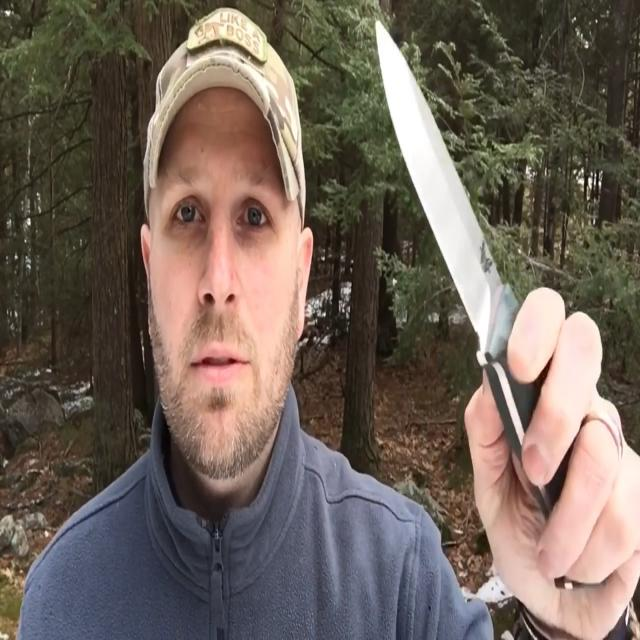knife: (373, 16, 567, 515)
